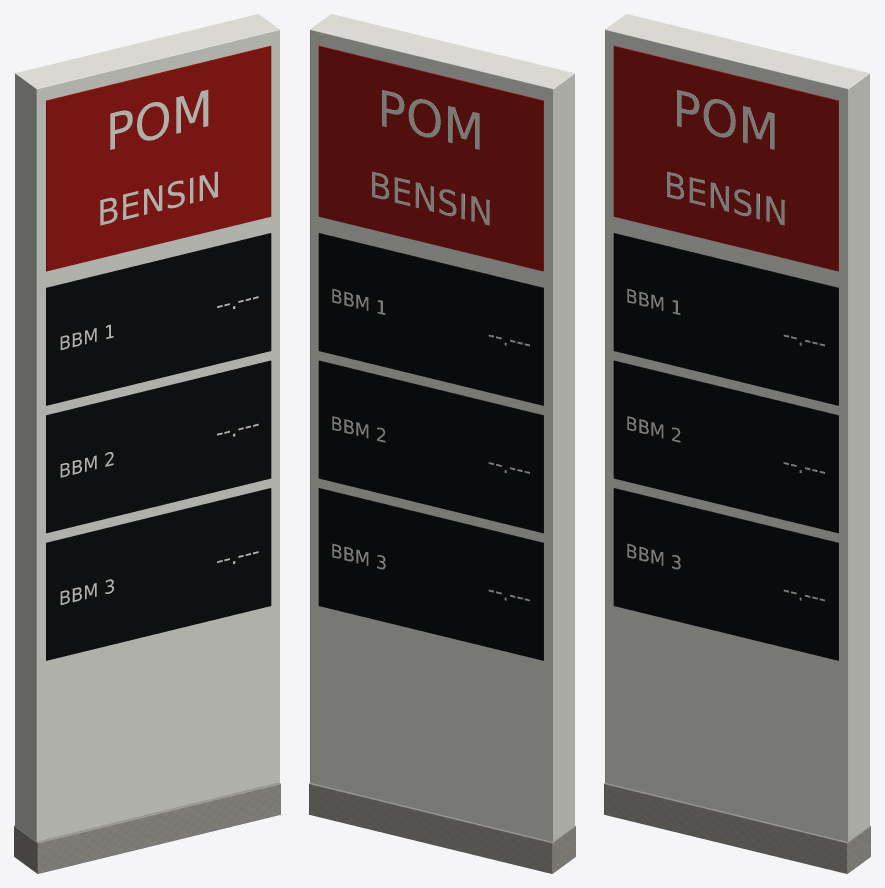
File: MPS_Station_Sign_4m.fbx
3 views of the same model, side by side, from view 1: azimuth 30°, elevation 25°; view 2: azimuth 150°, elevation 25°; view 3: azimuth 330°, elevation 25° (orthographic).
Parts seen in each view (by area): view 1: Body, MPS_Station_Sign_4m_Front_Station_Name_Panel_Mesh, MPS_Station_Sign_4m_Front_Fuel_Row_1_Mesh, MPS_Station_Sign_4m_Front_Fuel_Row_2_Mesh, MPS_Station_Sign_4m_Front_Fuel_Row_3_Mesh; view 2: Body, MPS_Station_Sign_4m_Rear_Station_Name_Panel_Mesh, MPS_Station_Sign_4m_Rear_Fuel_Row_1_Mesh, MPS_Station_Sign_4m_Rear_Fuel_Row_2_Mesh, MPS_Station_Sign_4m_Rear_Fuel_Row_3_Mesh; view 3: Body, MPS_Station_Sign_4m_Front_Station_Name_Panel_Mesh, MPS_Station_Sign_4m_Front_Fuel_Row_1_Mesh, MPS_Station_Sign_4m_Front_Fuel_Row_2_Mesh, MPS_Station_Sign_4m_Front_Fuel_Row_3_Mesh.
Part boxes in pixels (left/top/right/bottom): Body: left=14, top=14, right=280, bottom=873; MPS_Station_Sign_4m_Front_Station_Name_Panel_Mesh: left=46, top=45, right=271, bottom=271; MPS_Station_Sign_4m_Front_Fuel_Row_1_Mesh: left=46, top=233, right=271, bottom=405; MPS_Station_Sign_4m_Front_Fuel_Row_2_Mesh: left=46, top=360, right=271, bottom=533; MPS_Station_Sign_4m_Front_Fuel_Row_3_Mesh: left=46, top=488, right=271, bottom=660; Body: left=309, top=14, right=575, bottom=873; MPS_Station_Sign_4m_Rear_Station_Name_Panel_Mesh: left=318, top=45, right=543, bottom=271; MPS_Station_Sign_4m_Rear_Fuel_Row_1_Mesh: left=318, top=233, right=543, bottom=405; MPS_Station_Sign_4m_Rear_Fuel_Row_2_Mesh: left=318, top=360, right=543, bottom=533; MPS_Station_Sign_4m_Rear_Fuel_Row_3_Mesh: left=318, top=488, right=543, bottom=660; Body: left=604, top=14, right=870, bottom=873; MPS_Station_Sign_4m_Front_Station_Name_Panel_Mesh: left=613, top=45, right=838, bottom=271; MPS_Station_Sign_4m_Front_Fuel_Row_1_Mesh: left=613, top=233, right=838, bottom=405; MPS_Station_Sign_4m_Front_Fuel_Row_2_Mesh: left=613, top=360, right=838, bottom=533; MPS_Station_Sign_4m_Front_Fuel_Row_3_Mesh: left=613, top=488, right=838, bottom=660.
Bounding box in the file's own units: 1.3 × 4 × 0.22.
